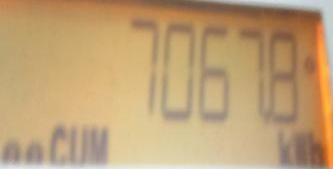.: (272, 130, 328, 169)
0: (263, 113, 270, 121)
1: (162, 23, 195, 121)
7: (197, 26, 235, 123)
8: (131, 18, 159, 116), (236, 27, 265, 117)
9: (267, 30, 304, 123)
